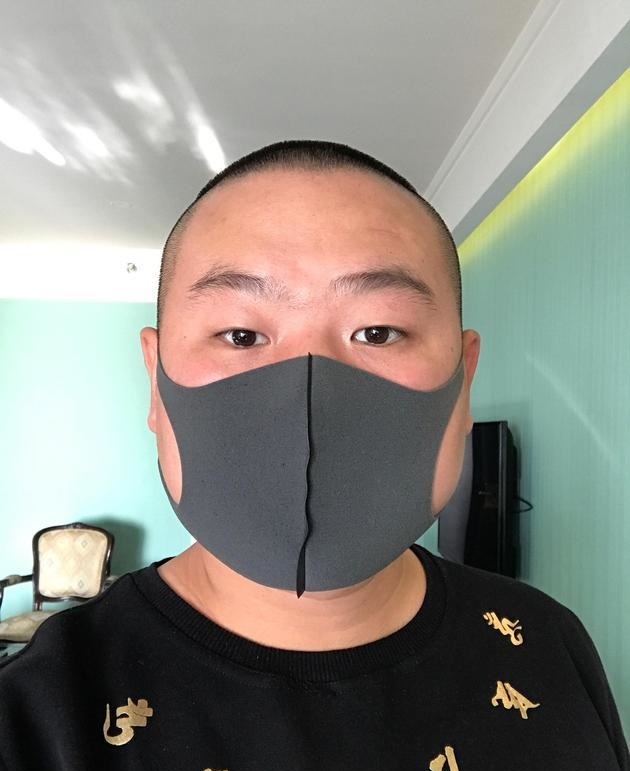face_mask: (157, 165, 456, 584)
